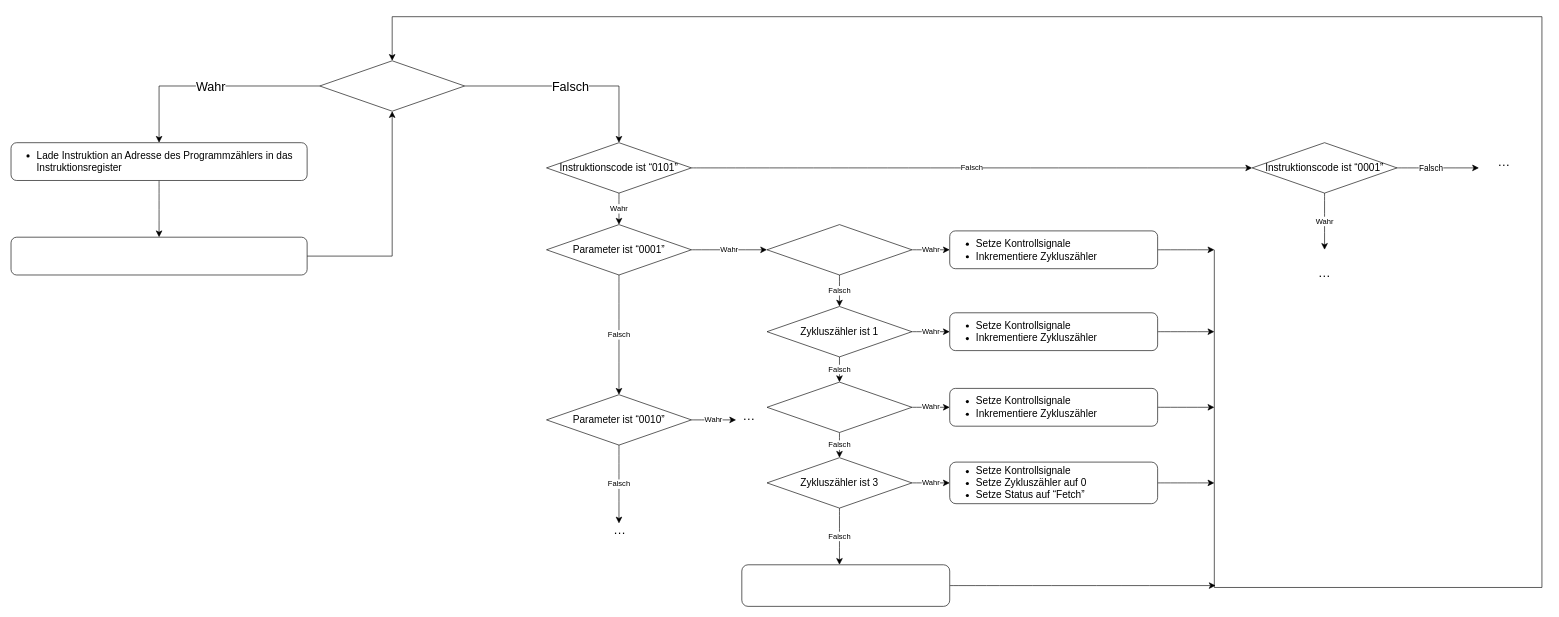
Some shapes in this 1559 by 617 pixel diagram are drawn without their labels. Each missing label, with the box of its shape:
Setzte Aktuellen Status auf “Decode/Execute” Inkrementiere Programmzähler: (10, 237, 307, 275)
Status ist “Fetch”: (319, 60, 465, 111)
Tut nichts: (741, 564, 950, 606)
Zykluszähler ist 0: (766, 224, 912, 275)
Zykluszähler ist 2: (766, 381, 912, 432)
